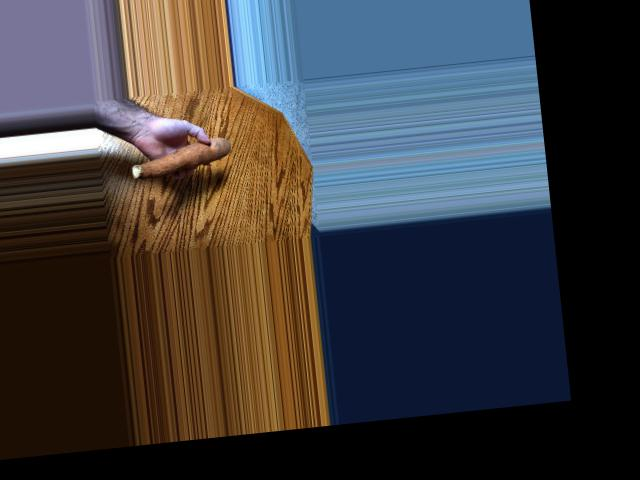sweet_potato: (133, 139, 239, 180)
